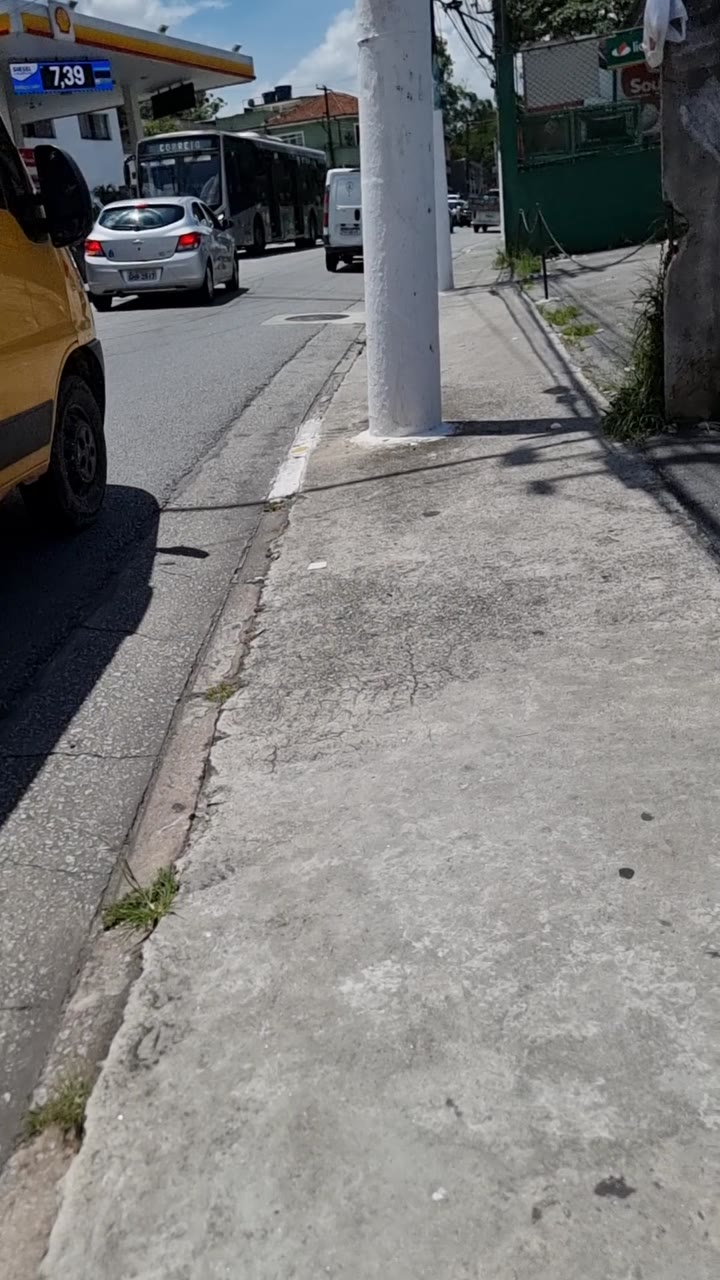obstaculo: (360, 0, 446, 486)
